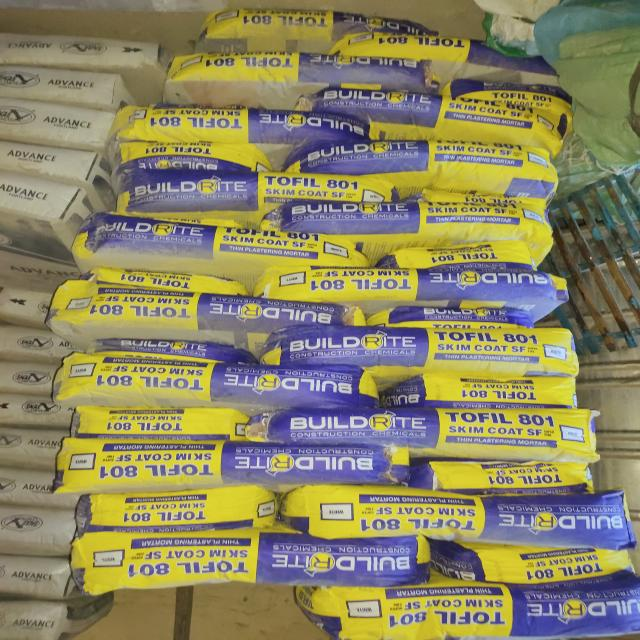Skim coat: (78, 536, 408, 589), (300, 496, 630, 549), (288, 145, 558, 200), (48, 447, 392, 489), (259, 414, 603, 456), (55, 225, 361, 272), (46, 291, 337, 337), (264, 269, 555, 315), (312, 592, 638, 633), (61, 362, 363, 404), (105, 110, 362, 159), (268, 334, 587, 371), (279, 202, 566, 238), (108, 176, 395, 212), (309, 110, 569, 143), (173, 56, 433, 89), (75, 488, 275, 530), (443, 543, 634, 585), (346, 39, 539, 77), (223, 17, 416, 55), (393, 373, 589, 410), (426, 458, 598, 500), (439, 73, 586, 122), (55, 412, 261, 444), (390, 239, 551, 273), (382, 305, 540, 337), (83, 270, 239, 300)
